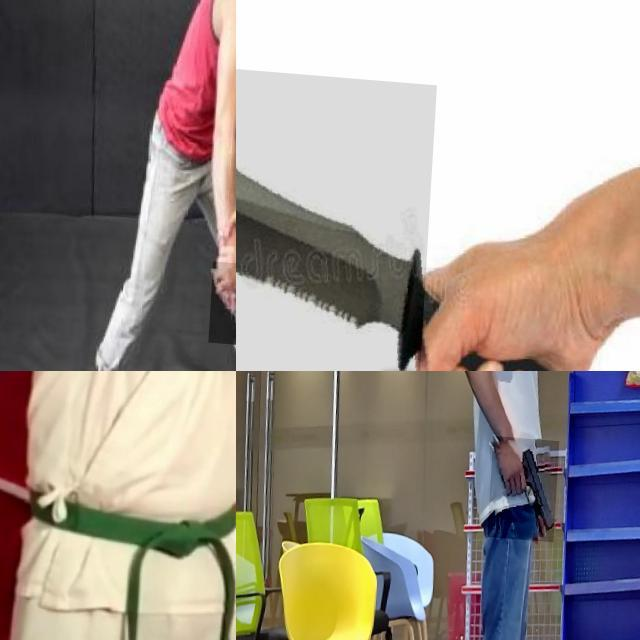-: (236, 54, 438, 371), (213, 256, 236, 342)
gun-knife-thesis - v11 Yolov5 augmented: (491, 430, 562, 536)
